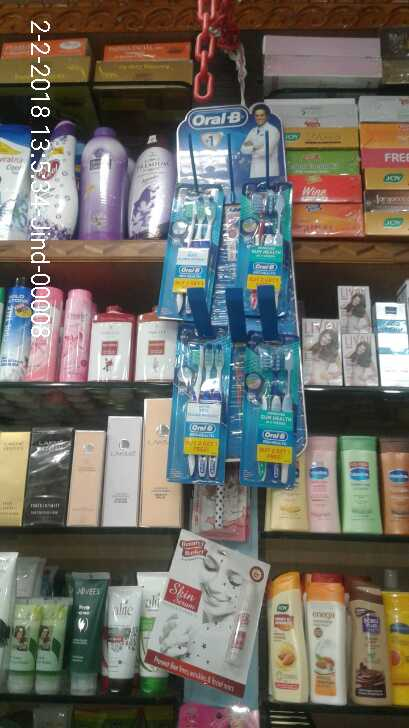oralb: (234, 334, 303, 492), (169, 340, 221, 491), (238, 188, 291, 321), (171, 175, 207, 326)
